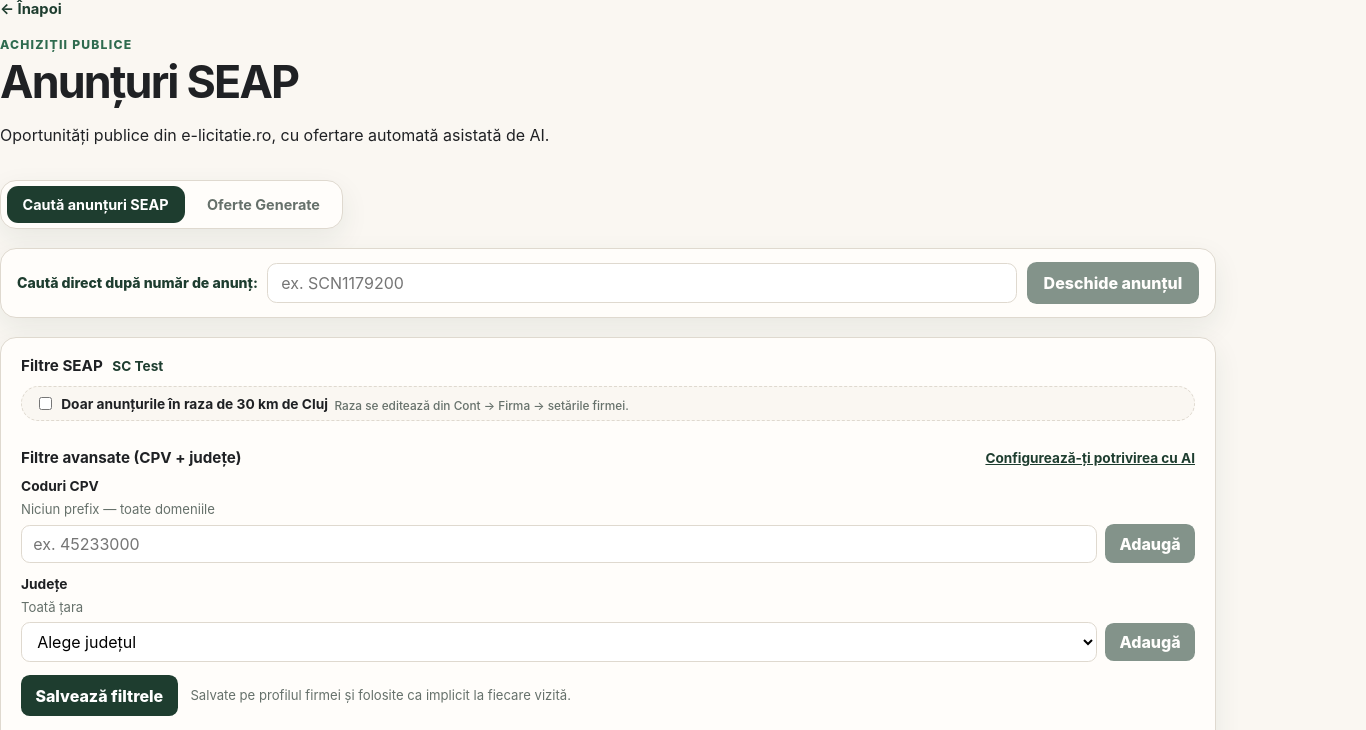
Scenario: SeapTendersComponent › opens a notice straight from its SEAP number via the direct-hit lookup
The width and height of the screenshot is (1366, 730).
In the field with placeholder "ex. SCN1179200": (642, 283) [268,263,1017,303], type "SCN1179200"
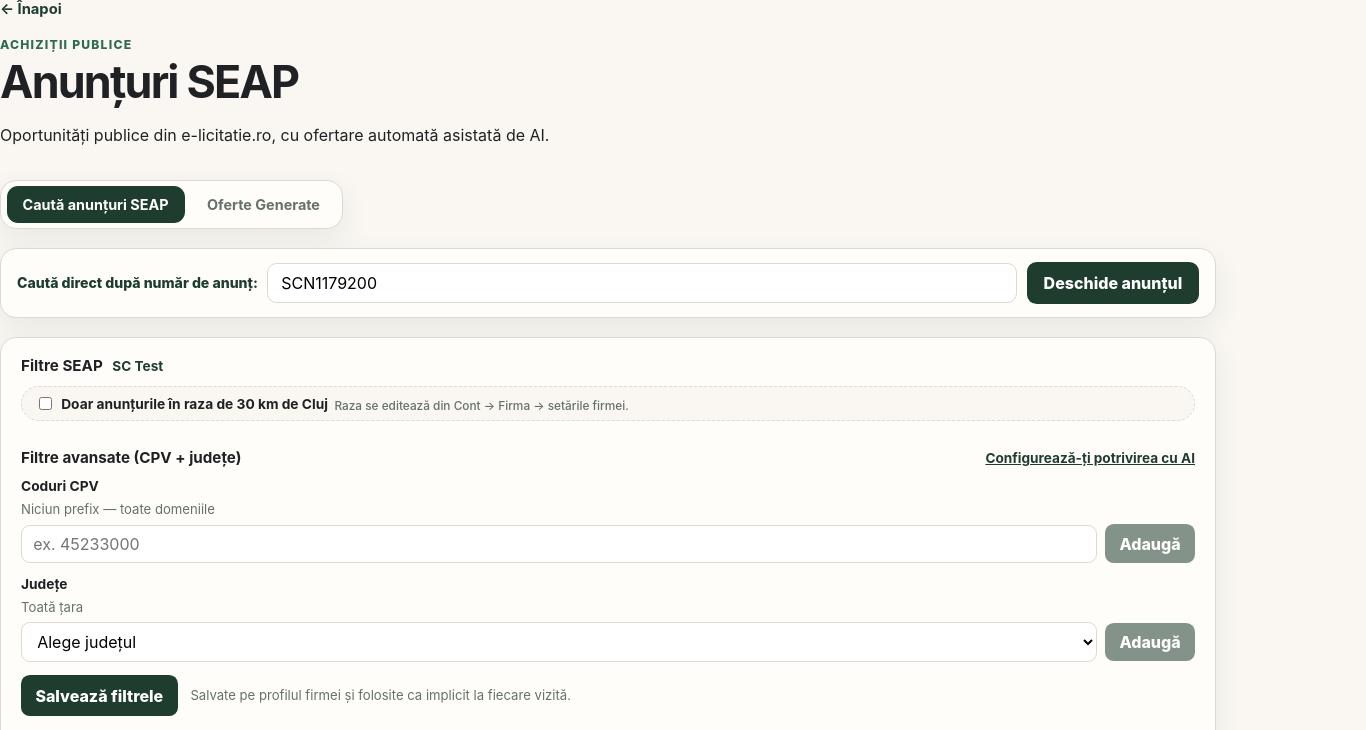
Click the button "Deschide anunțul": (1113, 283) [1027,262,1199,304]
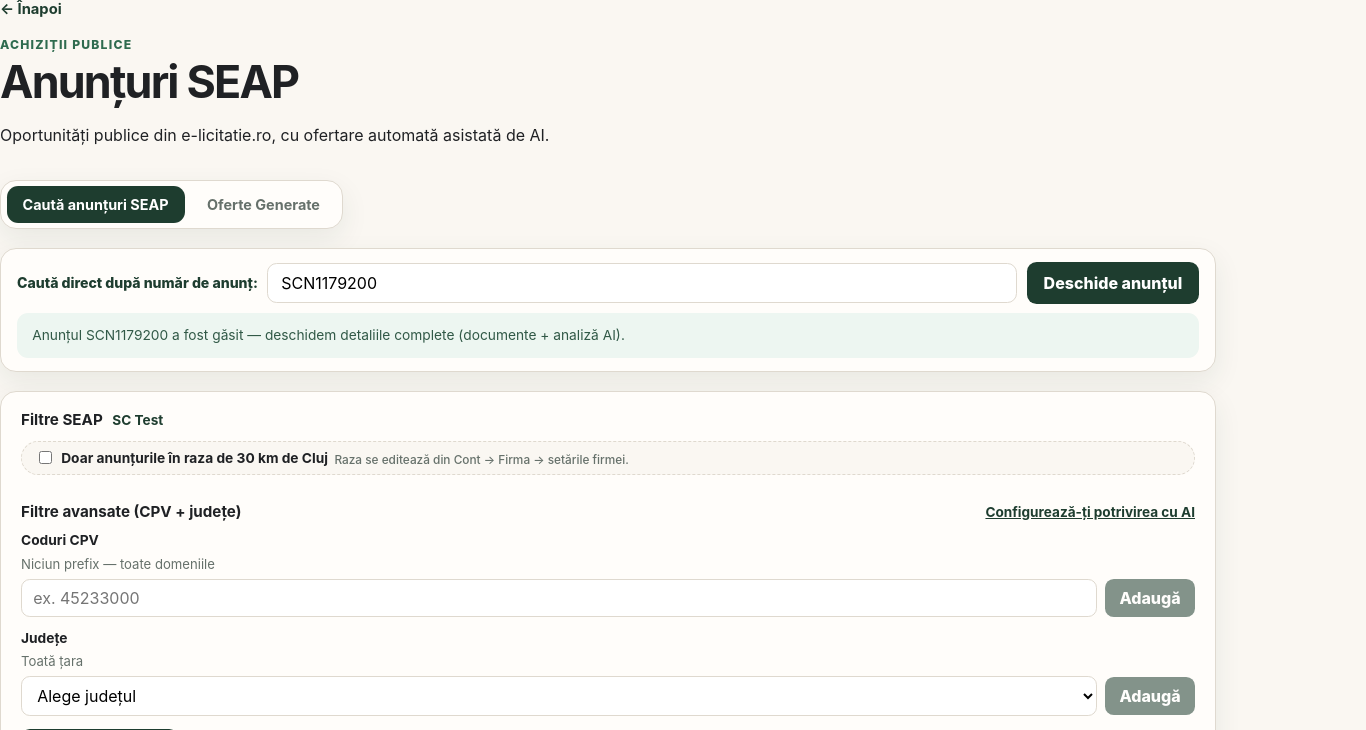
Check: the text "Anunțul SCN1179200 a fost găsit" is shown, box [32,327,625,343]
